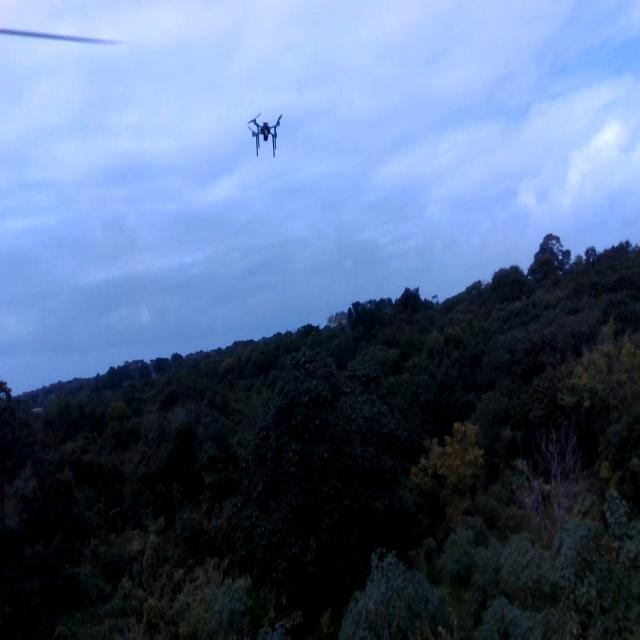-uav-: (241, 101, 291, 164)
